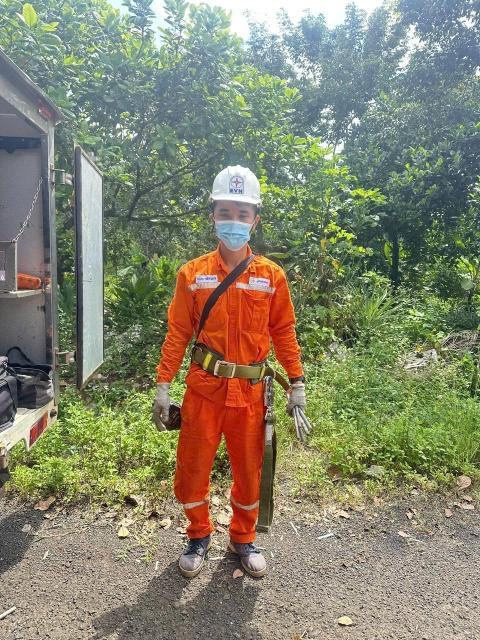gloves: (148, 364, 189, 435), (282, 374, 313, 429)
harness: (180, 343, 280, 388)
helmet: (198, 163, 280, 218)
shoes: (228, 534, 284, 583), (181, 526, 211, 577)
